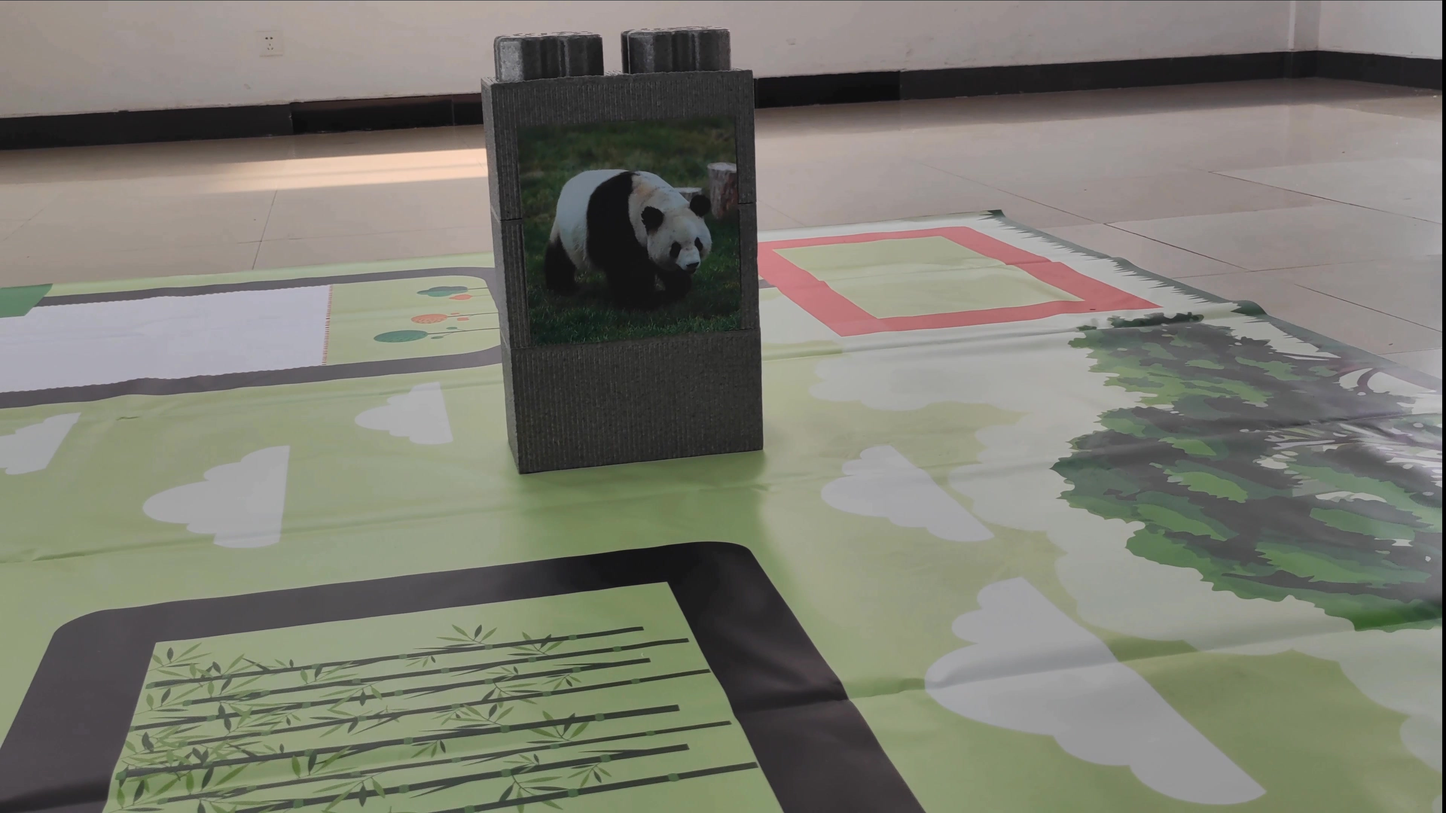panda: (538, 134, 741, 299)
